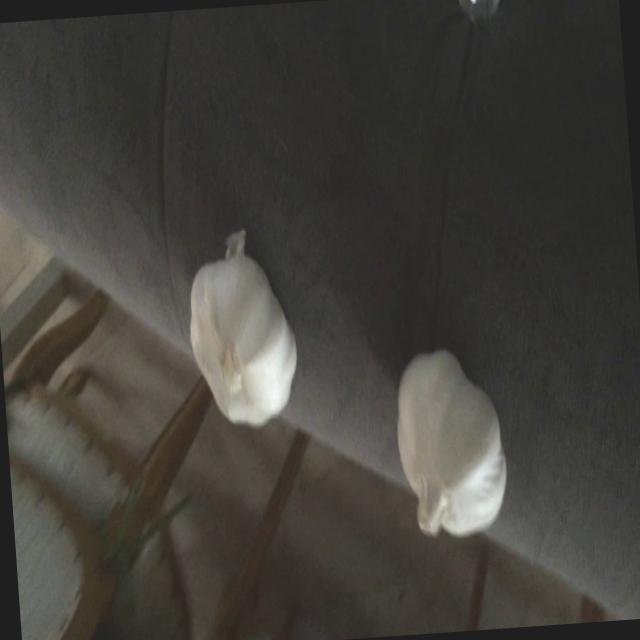garlic: (384, 334, 514, 552), (178, 243, 307, 437)
